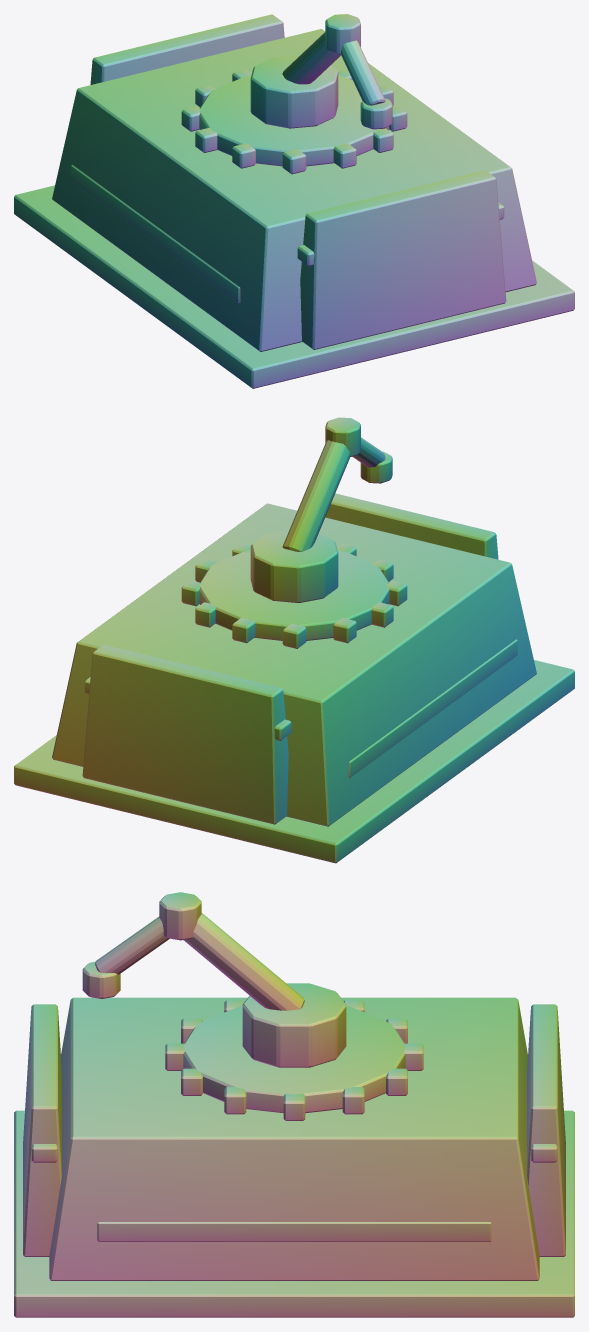
File: module_build_rig.glb
3 renders of one model, top to bottom at view 1: azimuth 30°, elevation 25°; view 2: azimuth 150°, elevation 25°; view 3: azimuth 270°, elevation 25°, orthographic. The views are drawn at different scales.
Parts seen in each view (by area): view 1: body, spin_arm; view 2: body, spin_arm; view 3: body, spin_arm.
Part boxes in pixels (left/top/right/bottom): body: left=14, top=14, right=574, bottom=388; spin_arm: left=250, top=14, right=392, bottom=129; body: left=14, top=493, right=574, bottom=863; spin_arm: left=250, top=417, right=392, bottom=602; body: left=14, top=997, right=574, bottom=1317; spin_arm: left=82, top=892, right=346, bottom=1067.
Size of the model in its own units: 10 by 8.2 by 12.8.
